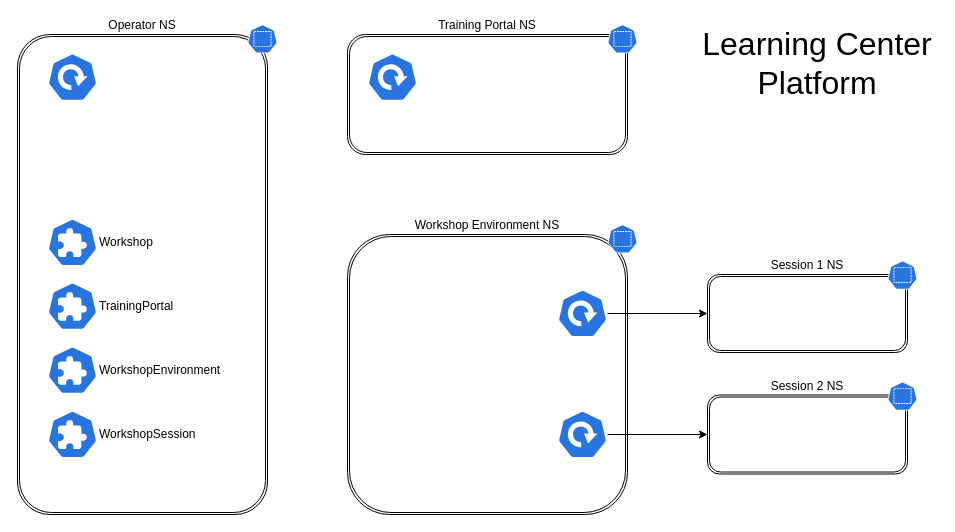
The diagram is 955 pixels wide and 532 high, and some of its shapes have lost their labels. The shapes that lost their labels are listed below. From the top down, each one's centre as x and y in pixels, then its label:
At (x=72, y=76): "Learning Center Operator".
At (x=392, y=76): "Training Portal".
At (x=582, y=313): "Workshop Session 1".
At (x=582, y=434): "Workshop Session 2".
